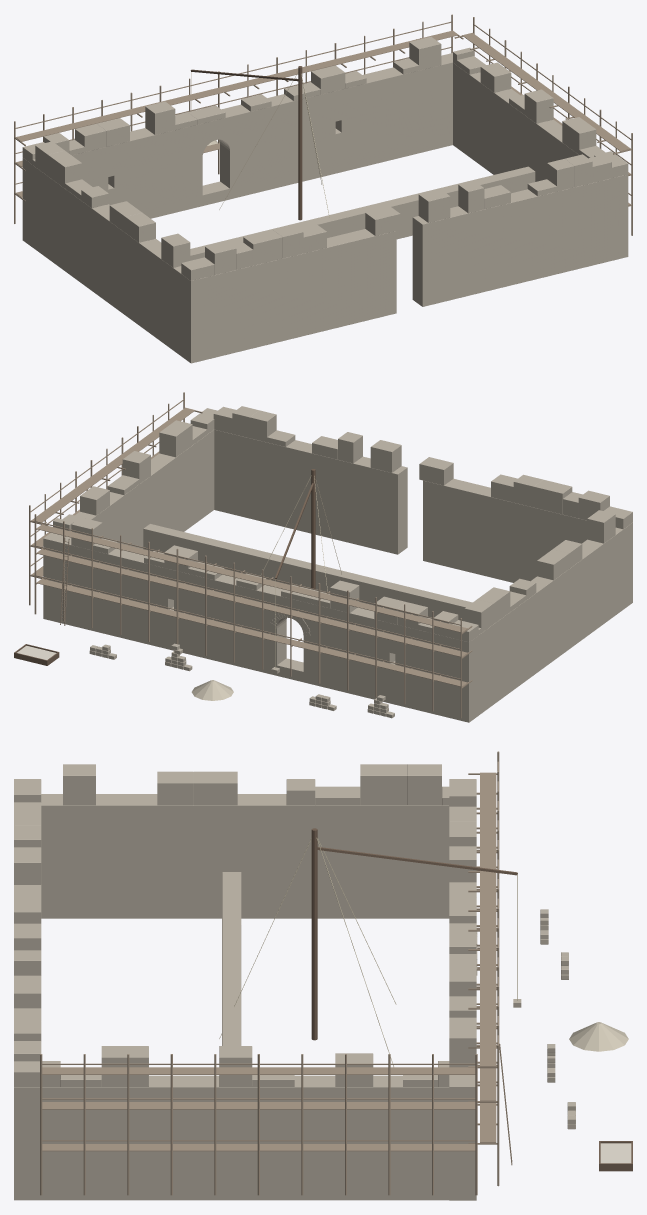
File: priori.glb
3 views of the same model, one above another, from view 1: azimuth 30°, elevation 25°; view 2: azimuth 150°, elevation 25°; view 3: azimuth 270°, elevation 25° (orthographic). The views are drawn at different scales.
Visible parts, largest first — view 1: priori; view 2: priori; view 3: priori.
Boxes of the visible parts, left/top/right/bottom form: priori: left=14, top=14, right=632, bottom=363; priori: left=14, top=392, right=632, bottom=722; priori: left=14, top=751, right=632, bottom=1200.
Bounding box in the file's own units: 52.78 × 18.2 × 45.5.
